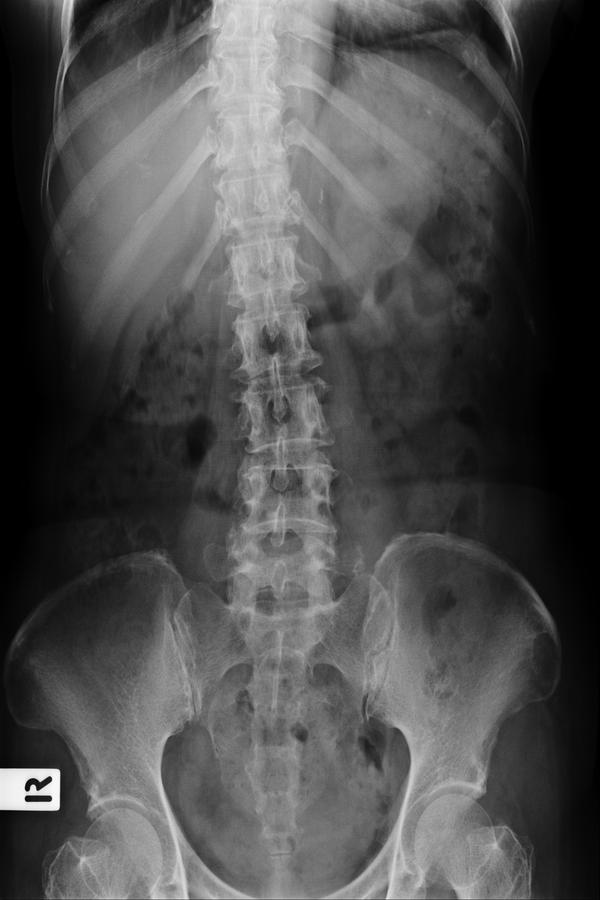lumbar scoliosis: (201, 166, 351, 655)
